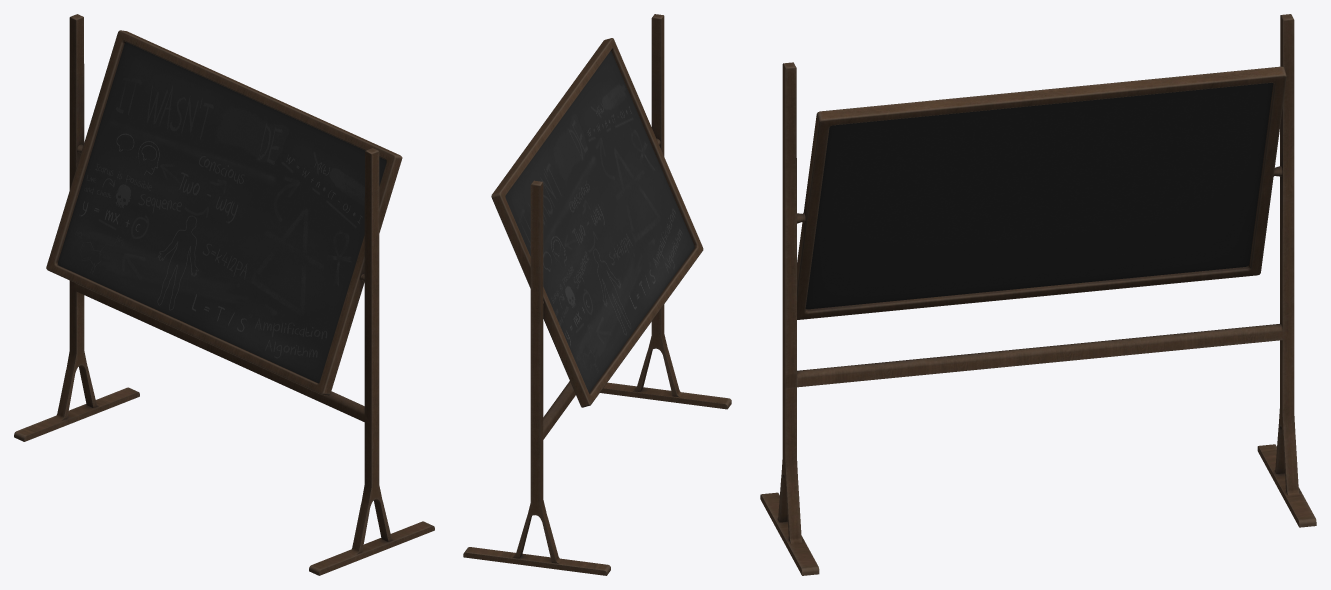
Rendered from game_ready_-_wooden_blackboard.glb.
3 views of the same model, side by side, from view 1: azimuth 30°, elevation 25°; view 2: azimuth 150°, elevation 25°; view 3: azimuth 270°, elevation 25° (orthographic). The views are drawn at different scales.
Visible parts, largest first — view 1: polySurface3; view 2: polySurface3; view 3: polySurface3.
Part boxes in pixels (x1,y1,x2,y2): polySurface3: [14, 14, 434, 575]; polySurface3: [463, 14, 731, 575]; polySurface3: [760, 14, 1316, 575].
Size of the model in its own units: 176 by 306 by 327.
Materials: 1 (1 with a texture image).
